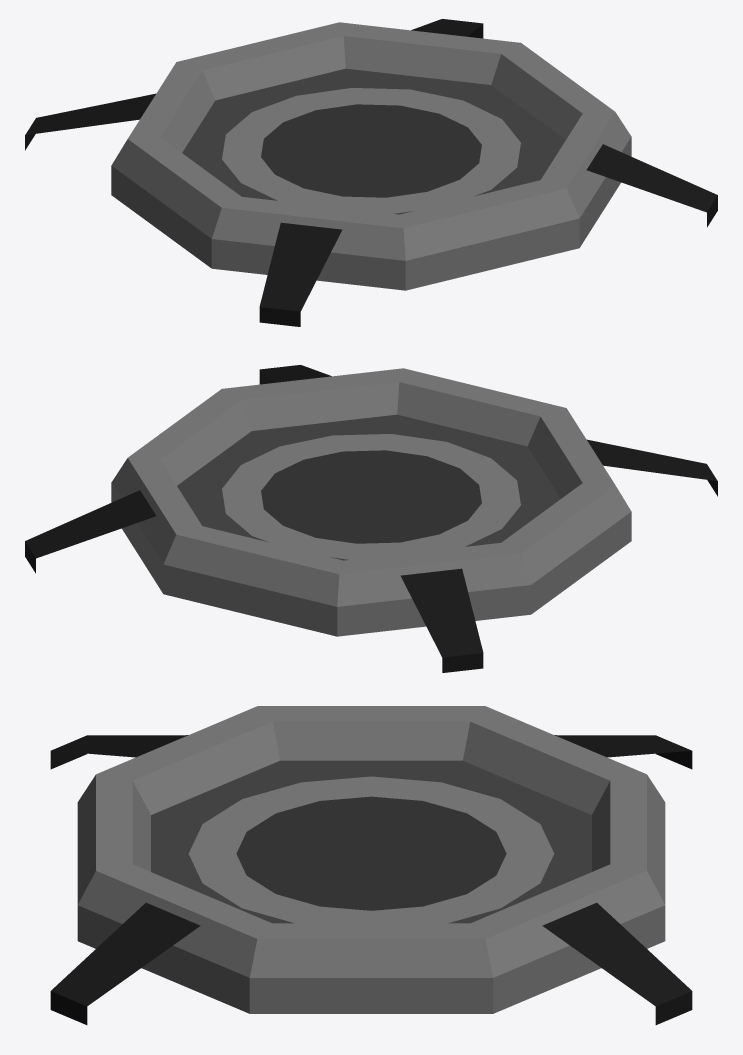
The model's file is PenSheQi_WuHuoYan_1X1_off.fbx.
3 renders of one model, top to bottom at view 1: azimuth 30°, elevation 25°; view 2: azimuth 150°, elevation 25°; view 3: azimuth 270°, elevation 25°, orthographic. The views are drawn at different scales.
Parts seen in each view (by area): view 1: Box001; view 2: Box001; view 3: Box001.
Boxes of the visible parts, x1=… form: Box001: x1=25, y1=19, x2=717, y2=326; Box001: x1=25, y1=365, x2=717, y2=672; Box001: x1=50, y1=706, x2=692, y2=1024.
Size of the model in its own units: 0.8993 by 0.0933 by 0.8993.
